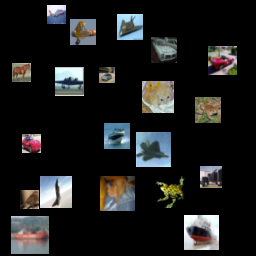airplane: (136, 132, 171, 167), (40, 176, 72, 208), (55, 67, 84, 96), (117, 14, 143, 40), (70, 19, 96, 45), (47, 5, 66, 24)
automobile: (208, 46, 237, 75), (151, 37, 177, 63), (22, 134, 41, 153), (99, 67, 115, 83)
bird: (20, 190, 39, 209)
cat: (100, 176, 135, 211), (142, 81, 174, 113)
frog: (154, 176, 186, 208), (195, 97, 221, 123)
ship: (11, 216, 49, 254), (184, 215, 219, 250), (104, 123, 130, 149)
